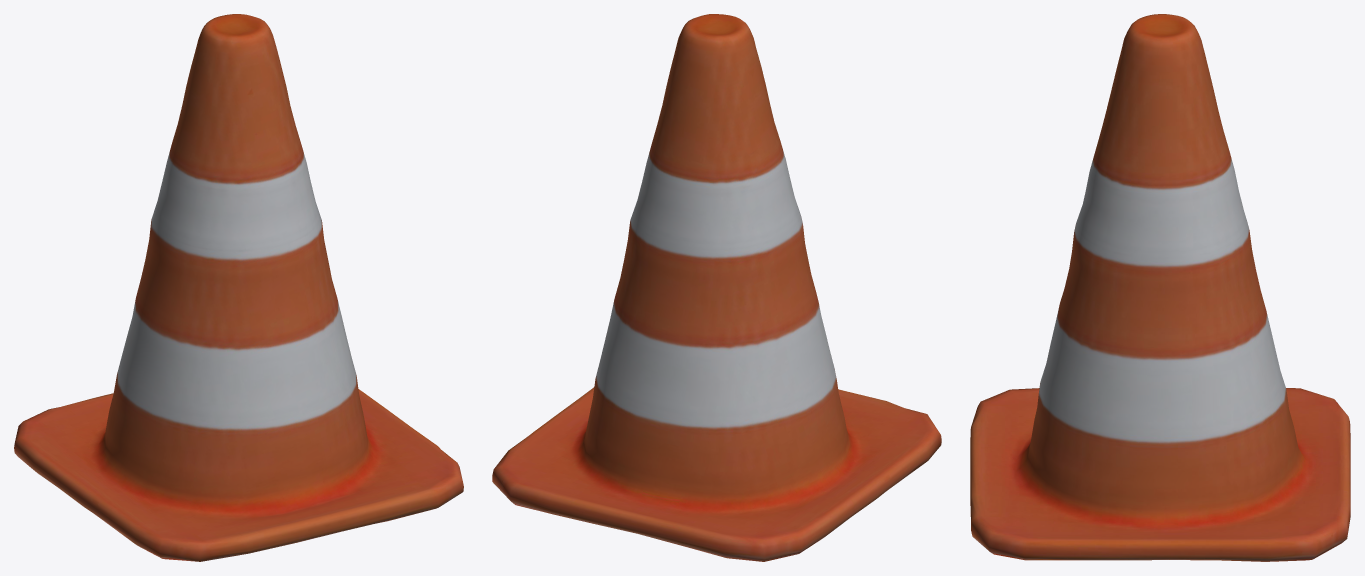
Rendered from 4af1ea7d1e21_traffic_cone__3d_as.fbx.
3 renders of one model, left to right at view 1: azimuth 30°, elevation 25°; view 2: azimuth 150°, elevation 25°; view 3: azimuth 270°, elevation 25°, orthographic. The views are drawn at different scales.
Parts seen in each view (by area): view 1: mesh; view 2: mesh; view 3: mesh.
Part boxes in pixels (x1,y1,x2,y2): mesh: (14,14,463,561); mesh: (492,14,941,561); mesh: (970,14,1350,561).
Bounding box in the file's own units: 72.78 × 99.81 × 73.76.
